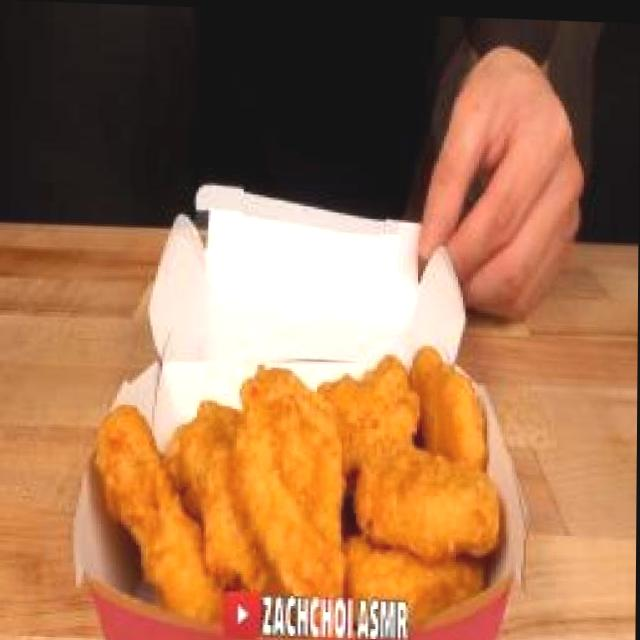nugget: (86, 308, 508, 628)
